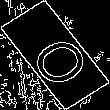O_NE: (17, 23, 93, 87)
